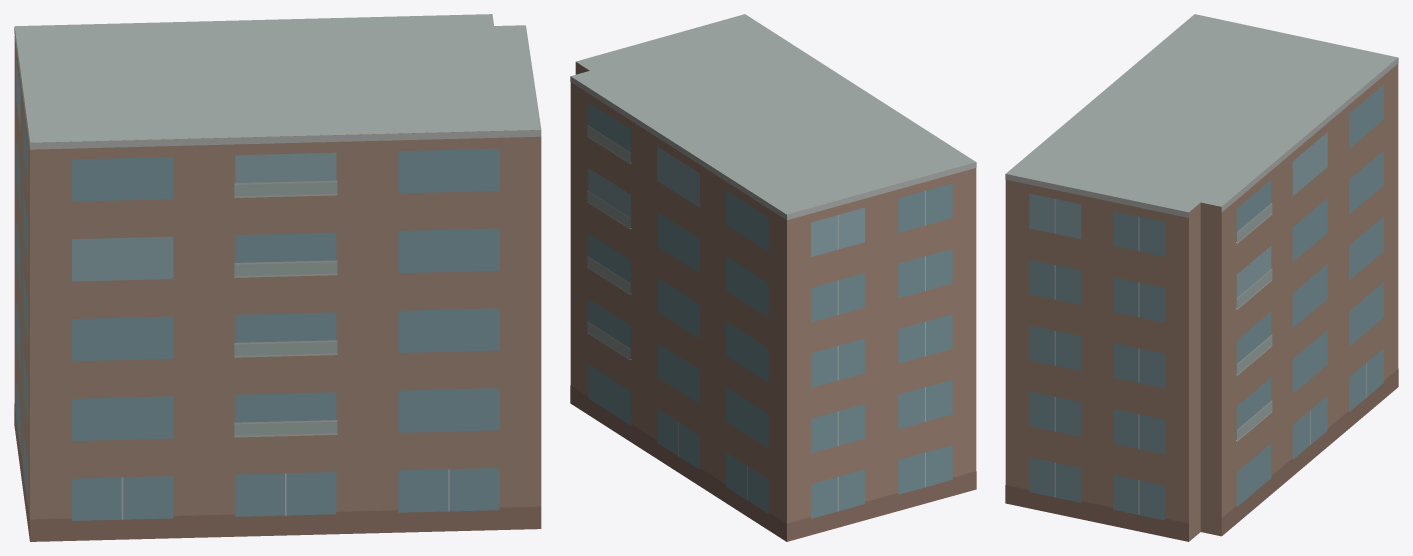
File: survey-upis-32842947.glb
The picture shows the model from 3 angles, left to right: view 1: azimuth 30°, elevation 25°; view 2: azimuth 150°, elevation 25°; view 3: azimuth 270°, elevation 25°; orthographic projection. The views are drawn at different scales.
Parts seen in each view (by area): view 1: survey-upis-32842947.tmp; view 2: survey-upis-32842947.tmp; view 3: survey-upis-32842947.tmp.
Part boxes in pixels (x1,y1,x2,y2): survey-upis-32842947.tmp: (14,14,541,541); survey-upis-32842947.tmp: (570,14,976,541); survey-upis-32842947.tmp: (1005,14,1398,541).
Size of the model in its own units: 18.34 by 14.2 by 15.36.
